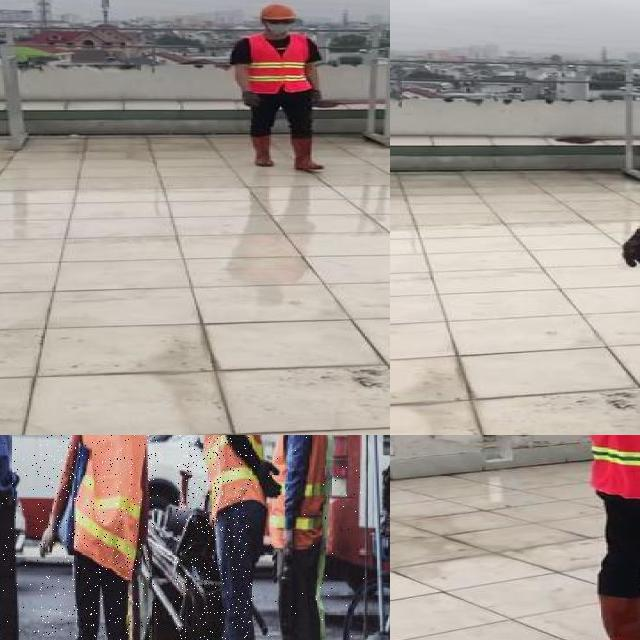boots: (595, 588, 640, 640), (290, 135, 328, 170), (248, 133, 278, 167)
face_mask: (264, 17, 294, 35)
glasses: (261, 16, 297, 26)
hand_glove: (620, 230, 640, 268), (310, 90, 326, 108), (238, 98, 264, 108)
head_helmet: (256, 4, 298, 22)
person: (40, 435, 158, 640), (175, 435, 292, 640), (252, 435, 364, 640), (226, 6, 335, 174), (561, 435, 640, 640)
vest: (72, 435, 149, 582), (268, 435, 337, 549), (204, 435, 267, 528), (244, 33, 310, 94)
